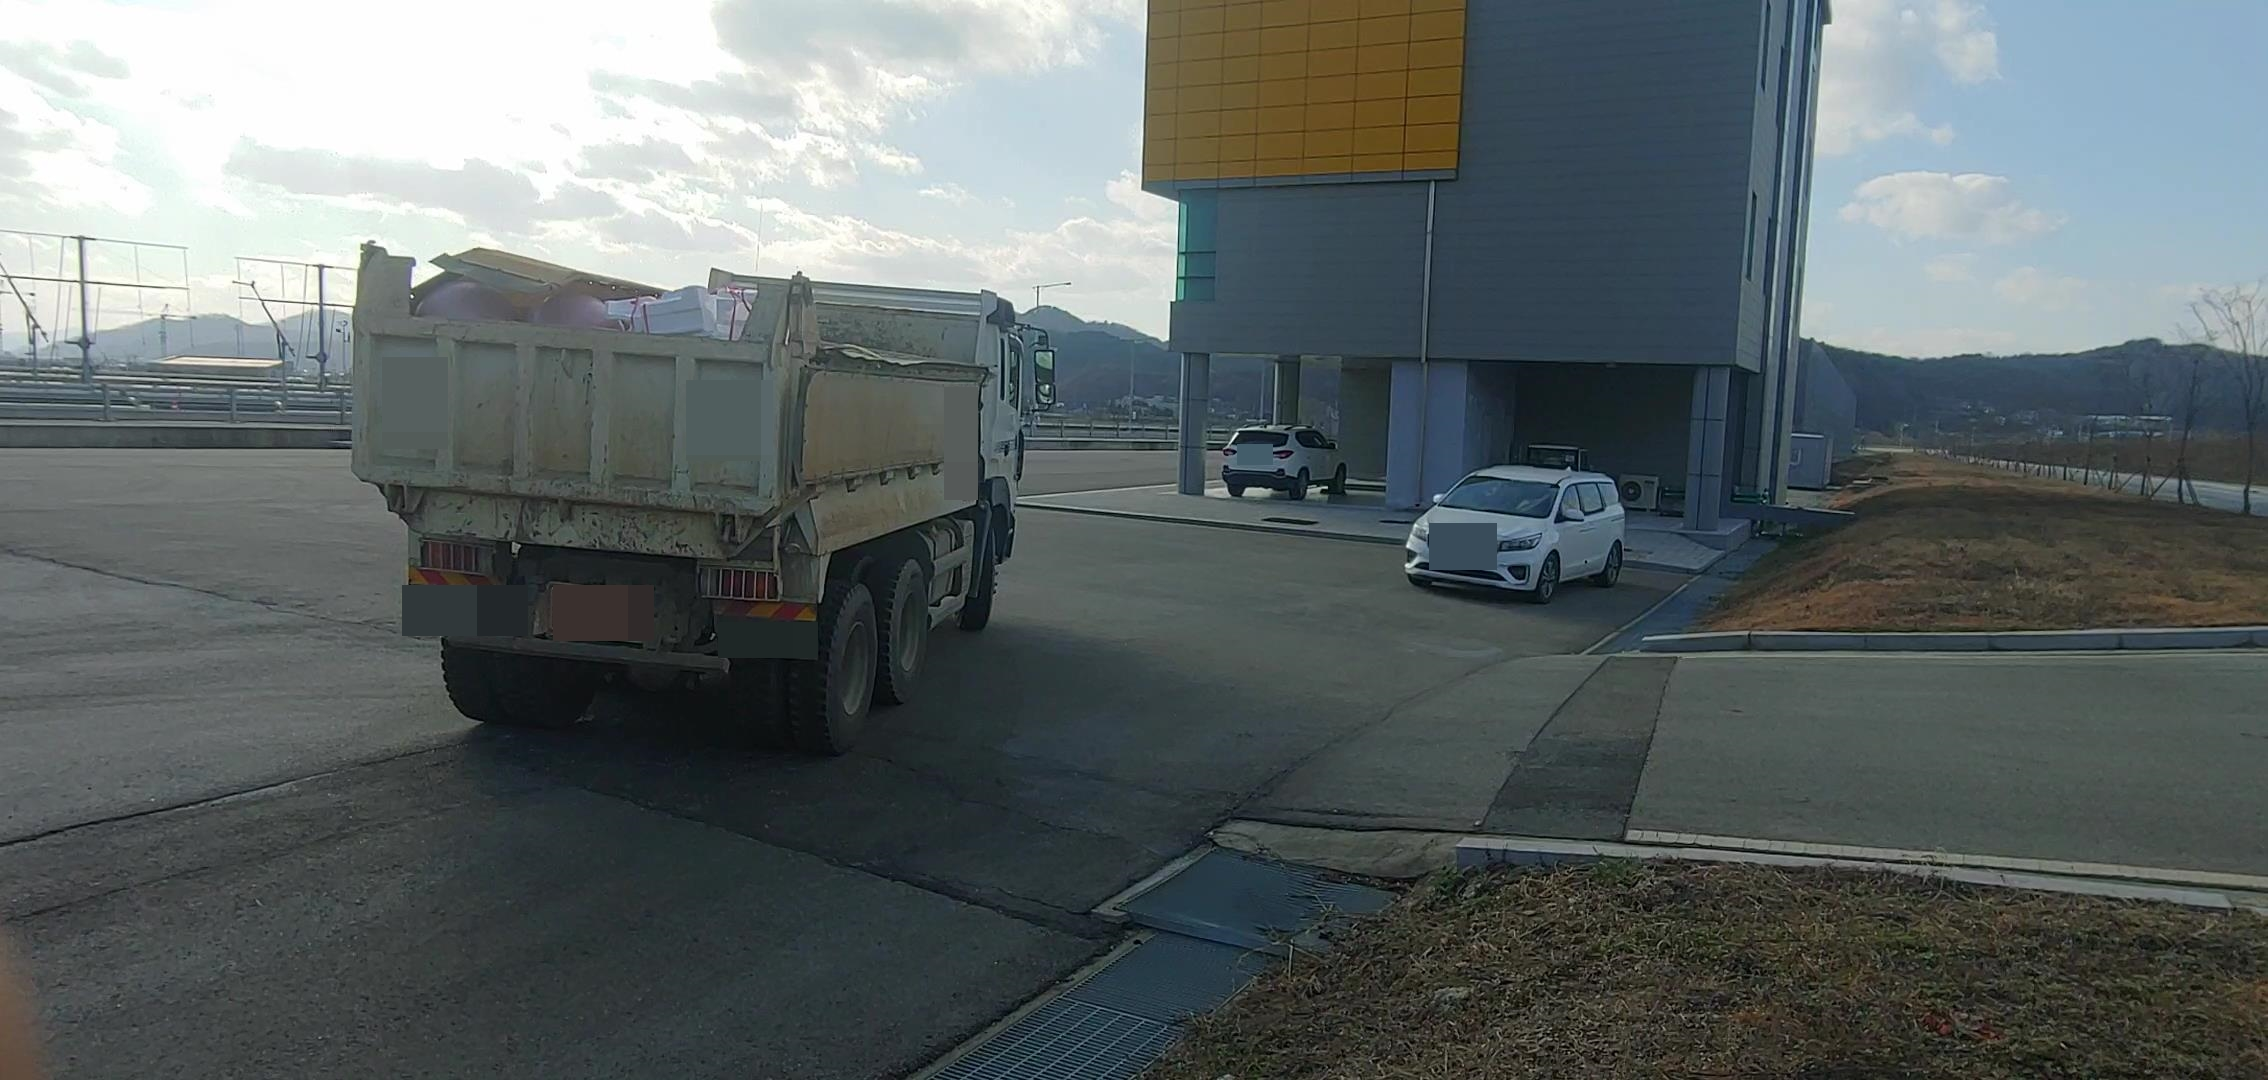불법차량: (350, 239, 1057, 758)
